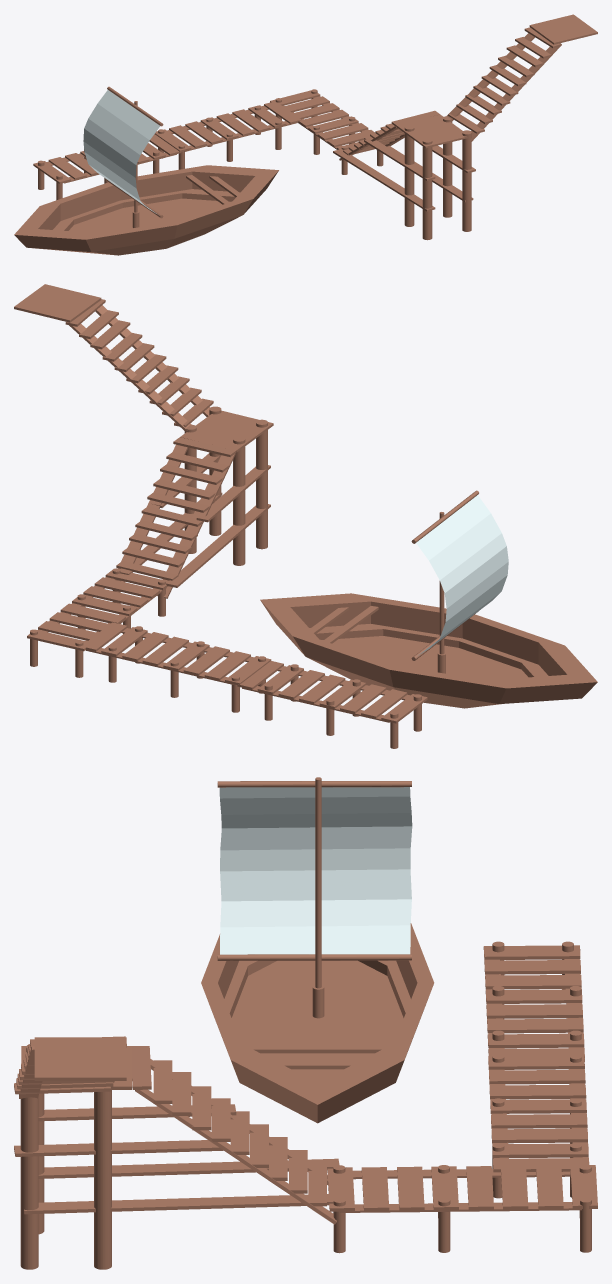
The model's file is boat_and_pontoon.obj.
The picture shows the model from 3 angles, top to bottom: view 1: azimuth 30°, elevation 25°; view 2: azimuth 150°, elevation 25°; view 3: azimuth 270°, elevation 25°; orthographic projection. The views are drawn at different scales.
Visible parts, largest first — view 1: Cube.019_Cube.002; view 2: Cube.019_Cube.002; view 3: Cube.019_Cube.002.
Part boxes in pixels (bbox=[...]): Cube.019_Cube.002: bbox=[14, 14, 597, 255]; Cube.019_Cube.002: bbox=[14, 284, 597, 748]; Cube.019_Cube.002: bbox=[14, 777, 597, 1269].
Size of the model in its own units: 15.66 by 4.86 by 8.25.
